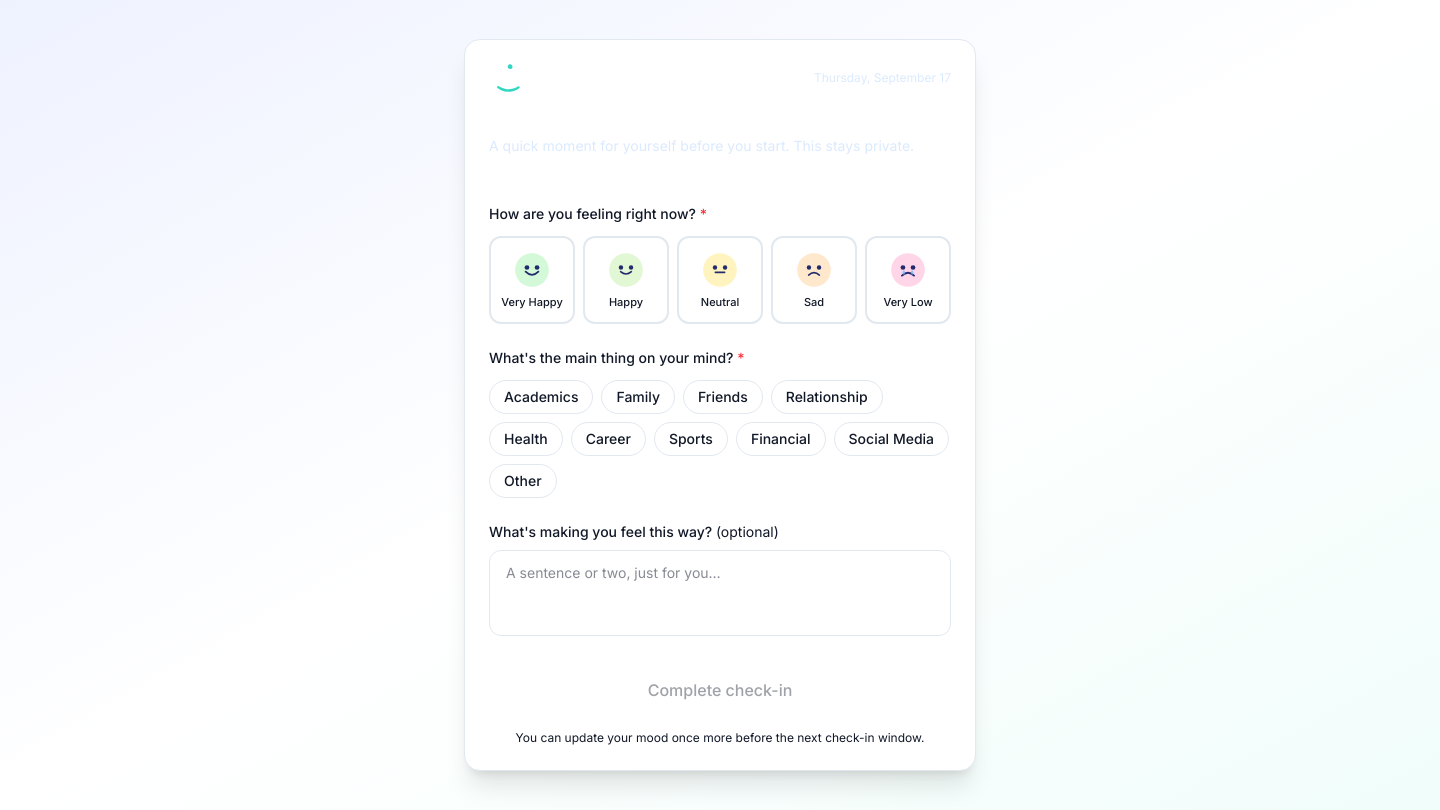
Test: DailyCheckinModal › shows an error and stays open on server failure
Step 1. Click the button "Happy" → [626, 280], box [583, 236, 669, 324]
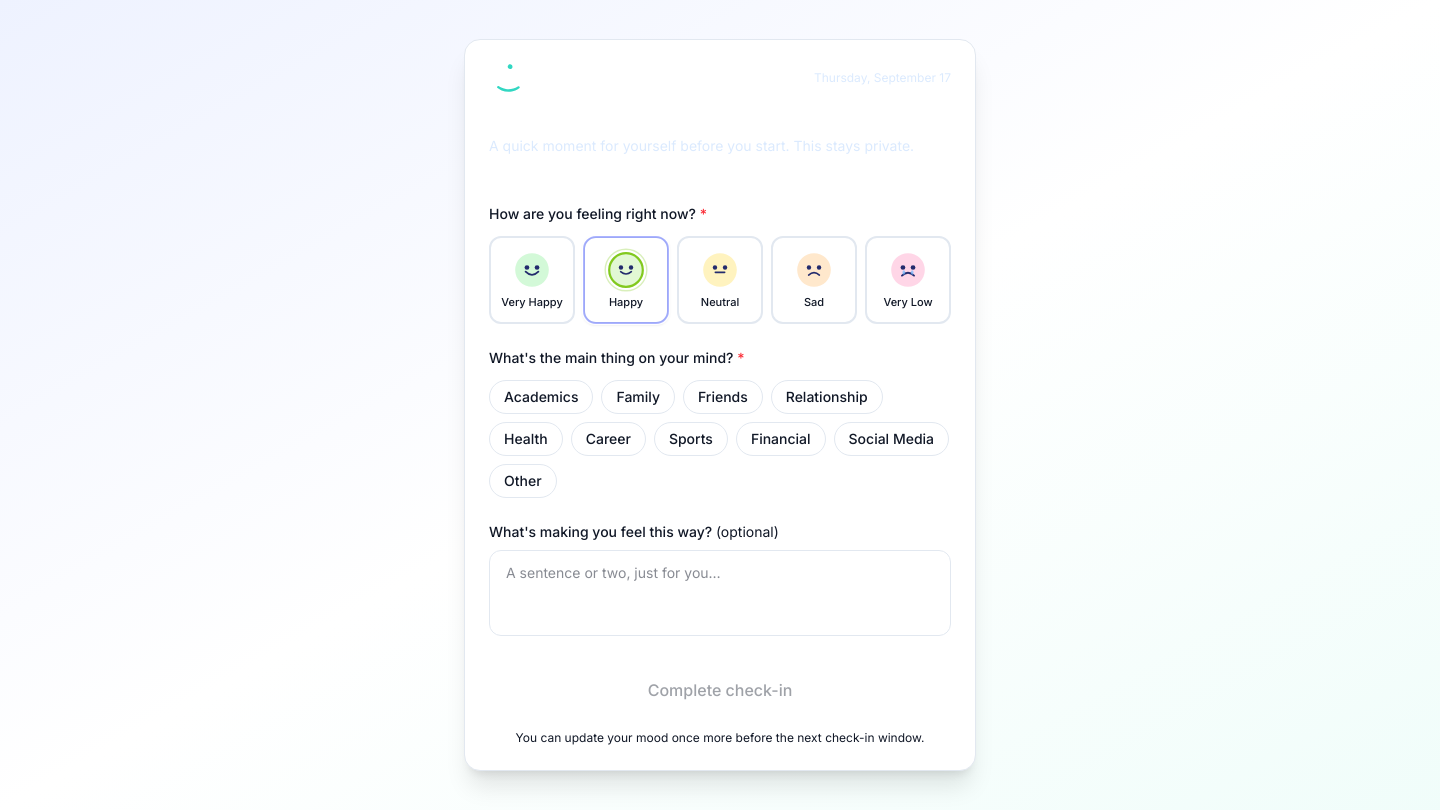
Step 2. Click the button "Health" → [526, 439], box [489, 422, 563, 456]
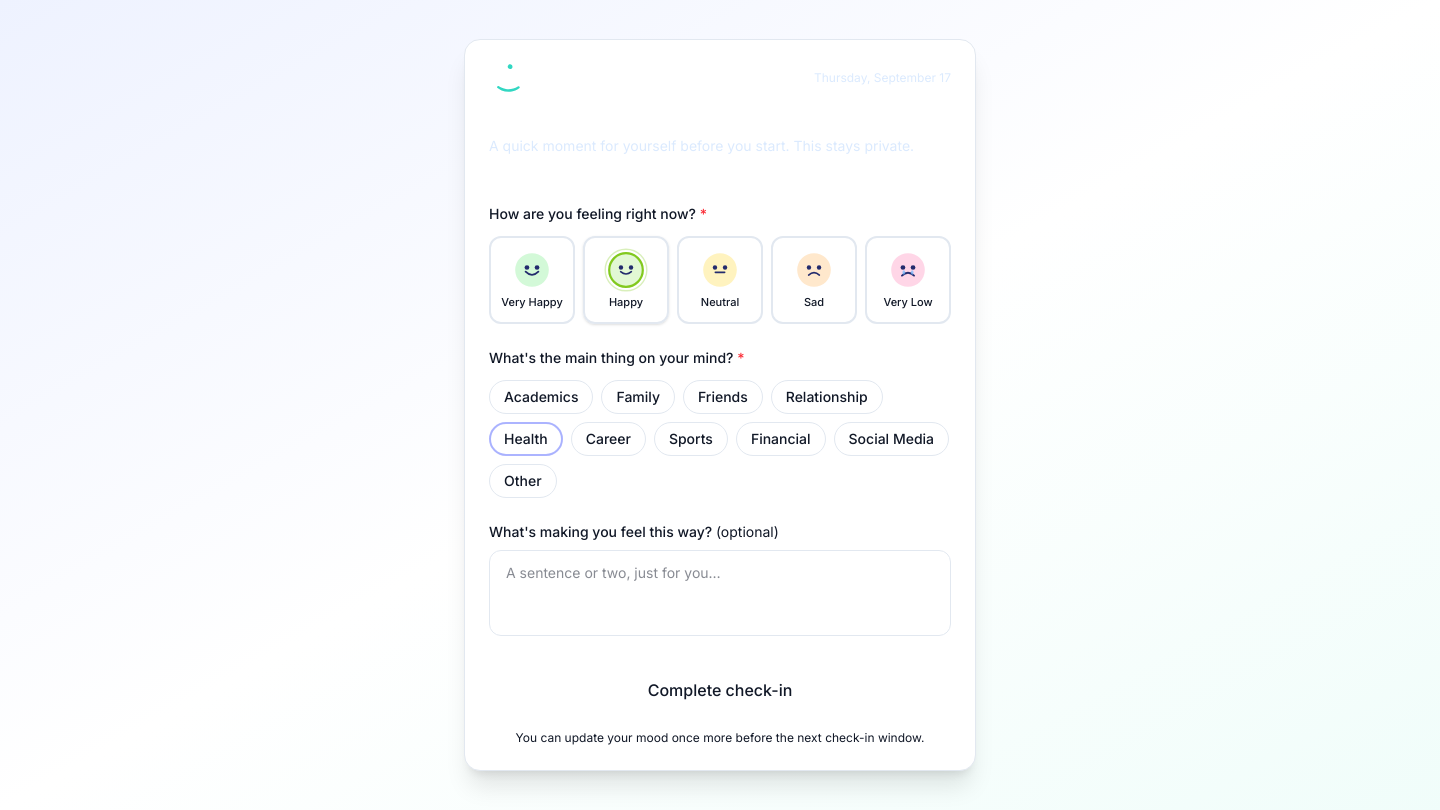
Step 3. Click the button "Complete check-in" → [720, 690], box [489, 666, 951, 714]
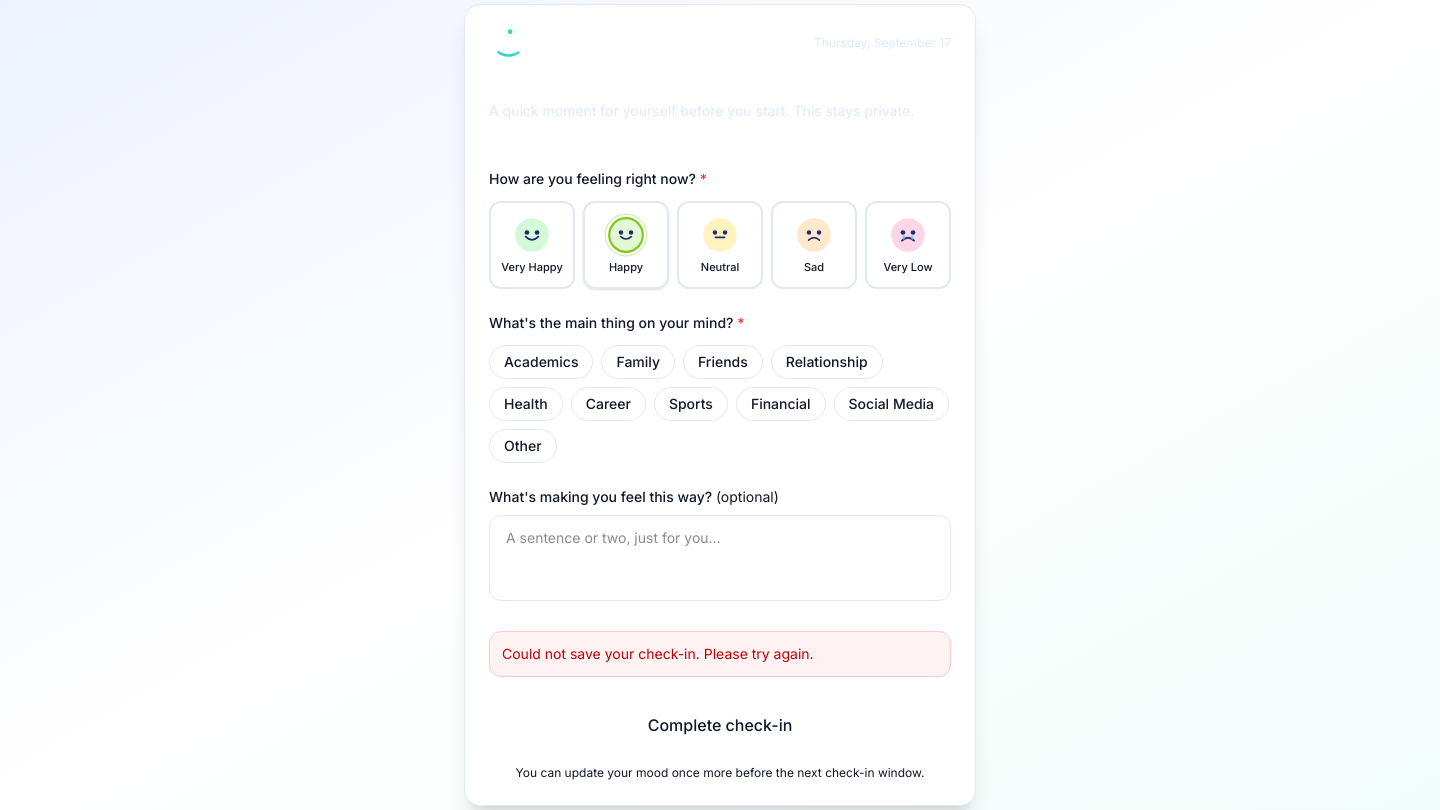
Now the text "Could not save your check-in. Please try again." is shown, box [489, 631, 951, 677]
